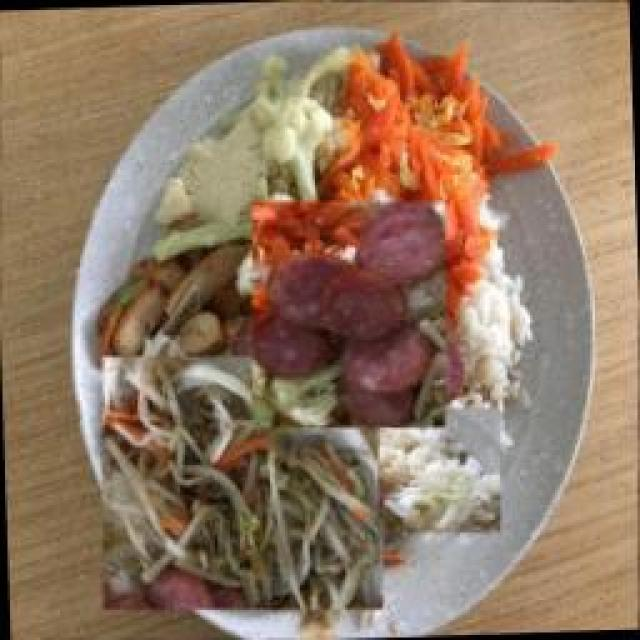carrot_eggs: (317, 30, 505, 320)
chinese_sausage: (238, 203, 463, 428)
mung_bean_sprouts: (95, 348, 395, 621)
rice: (375, 403, 508, 536)
